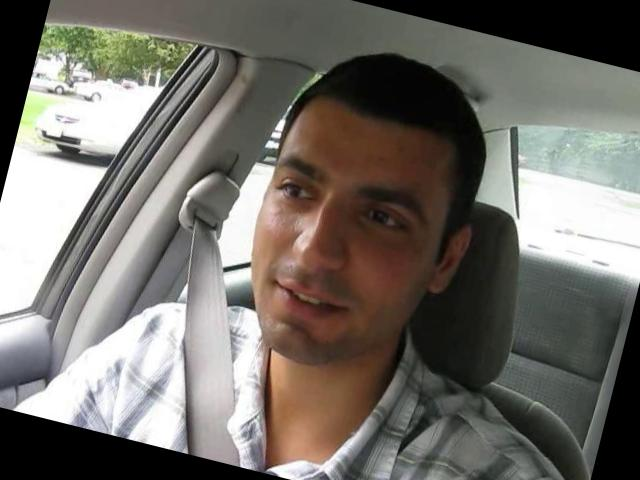eye_open: (351, 198, 418, 242), (268, 172, 322, 213)
face: (219, 126, 447, 382)
